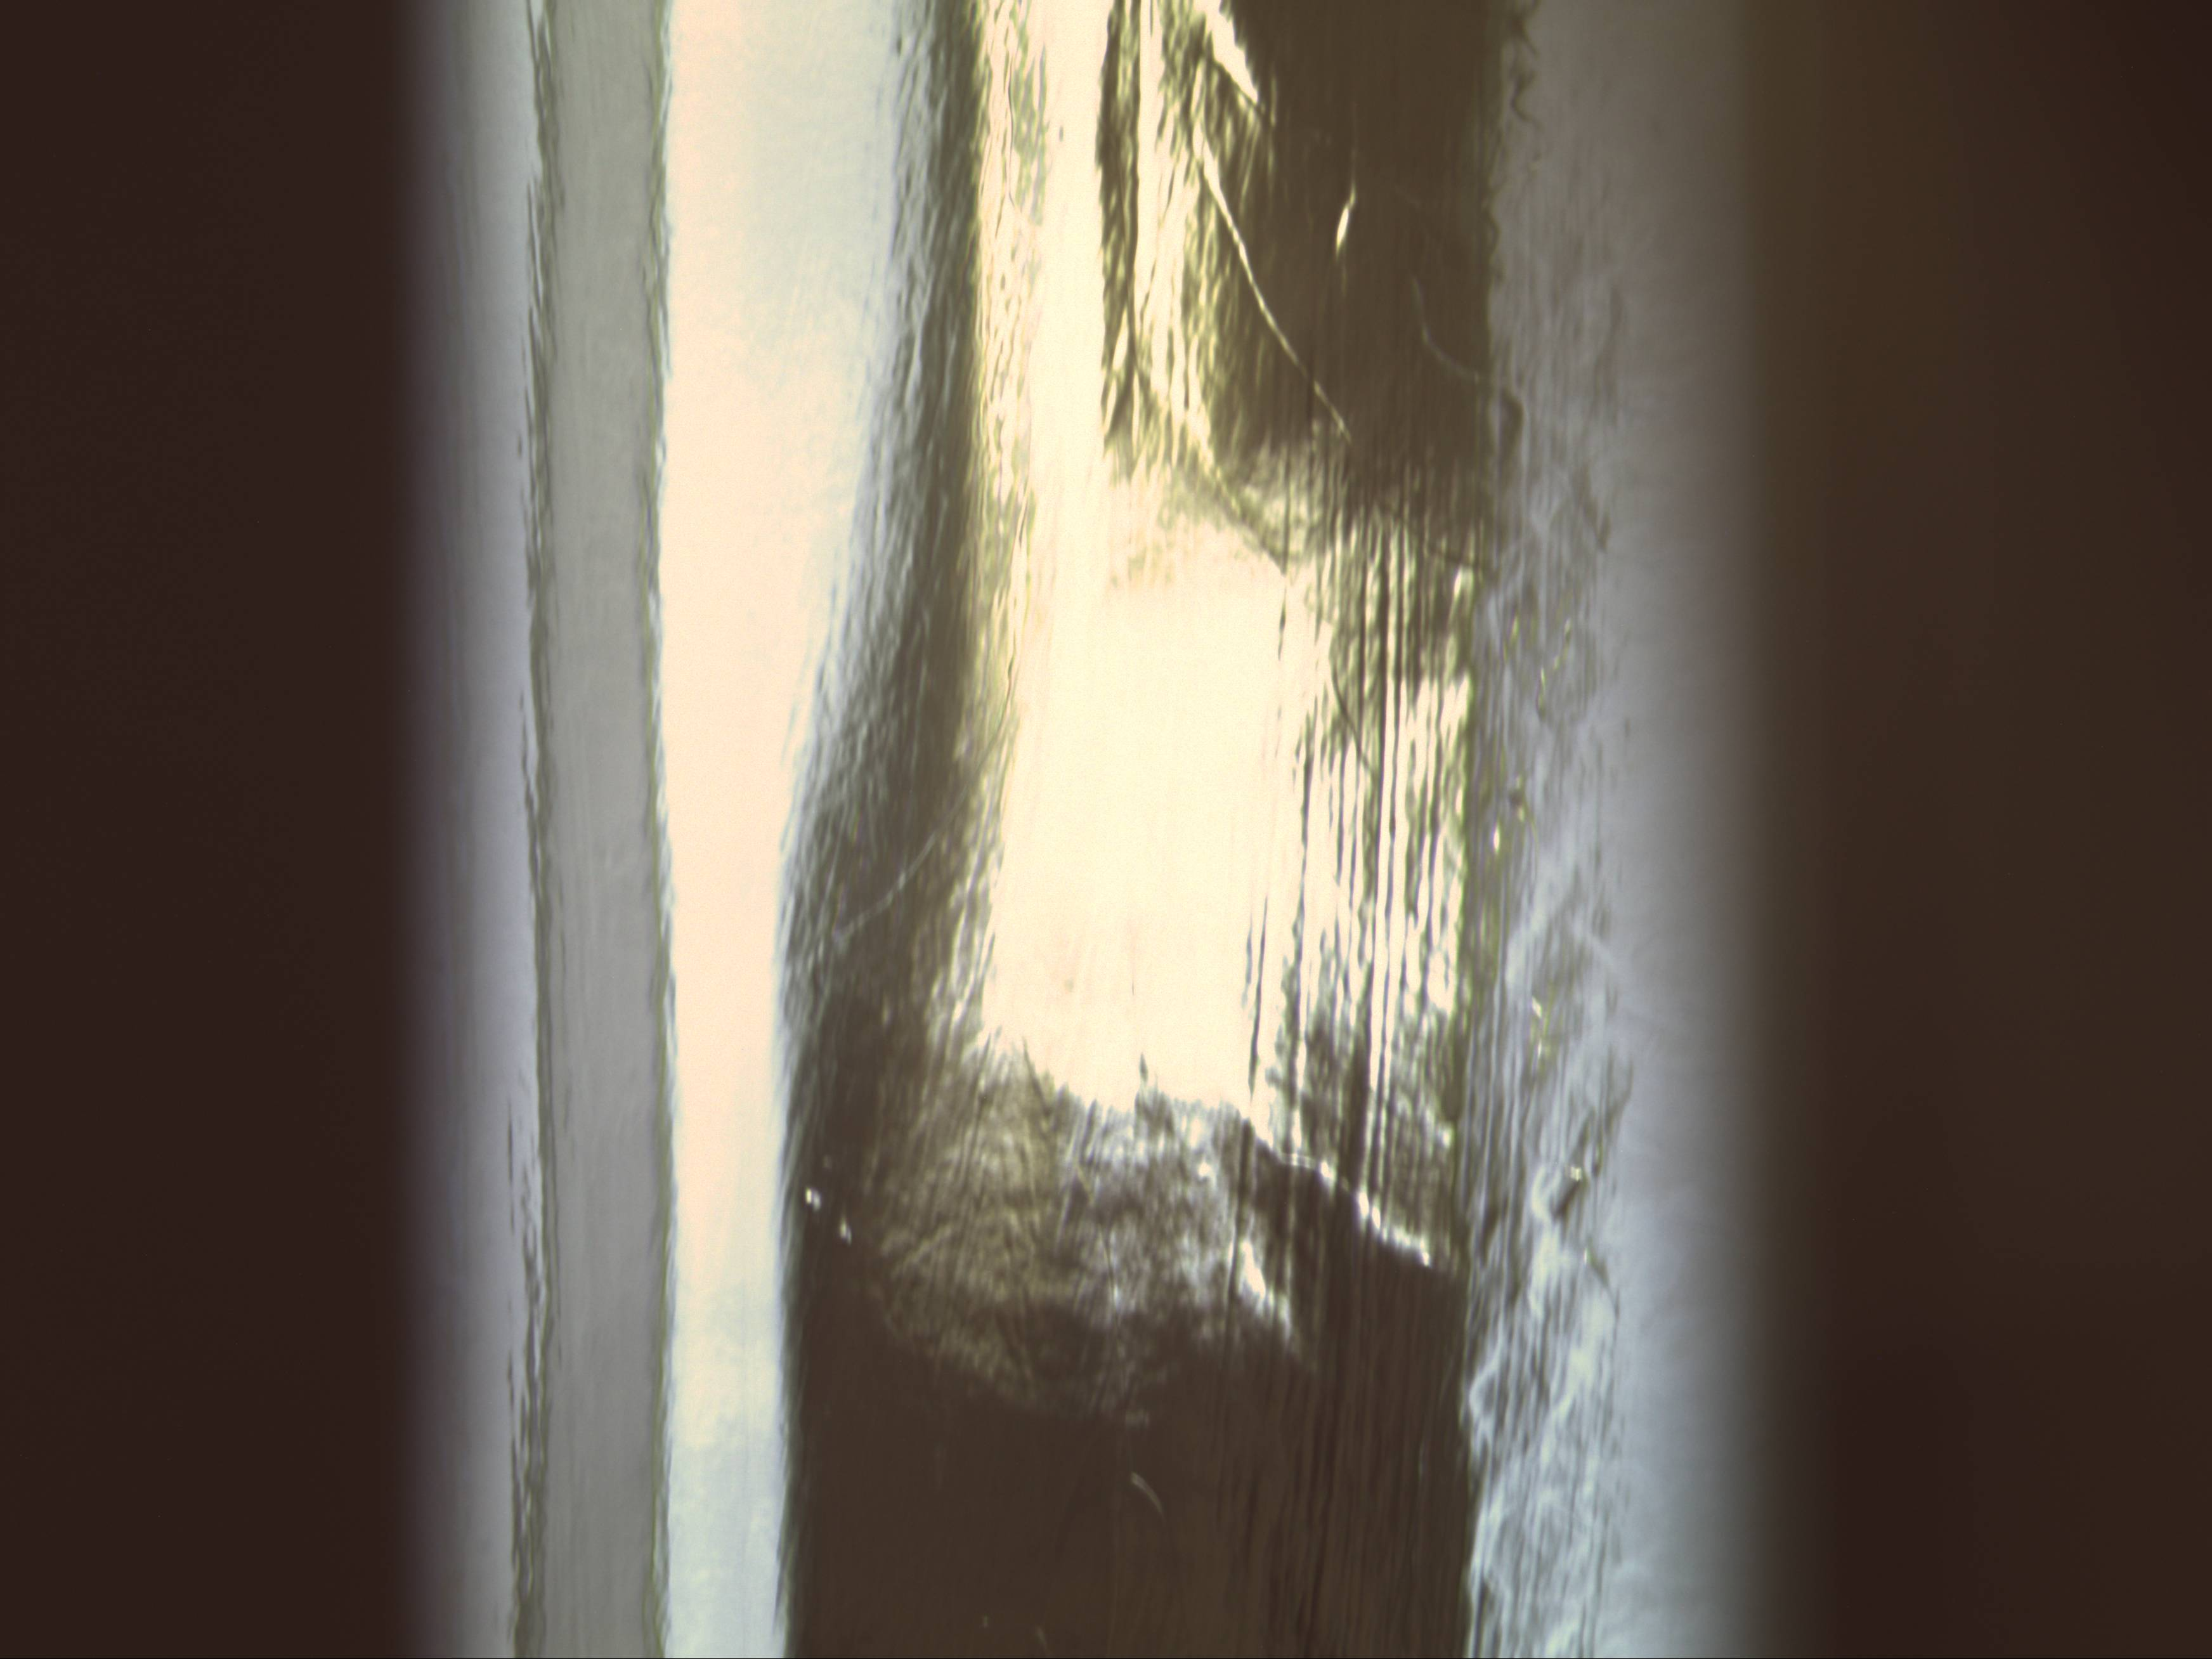defect: (796, 1175, 829, 1216)
